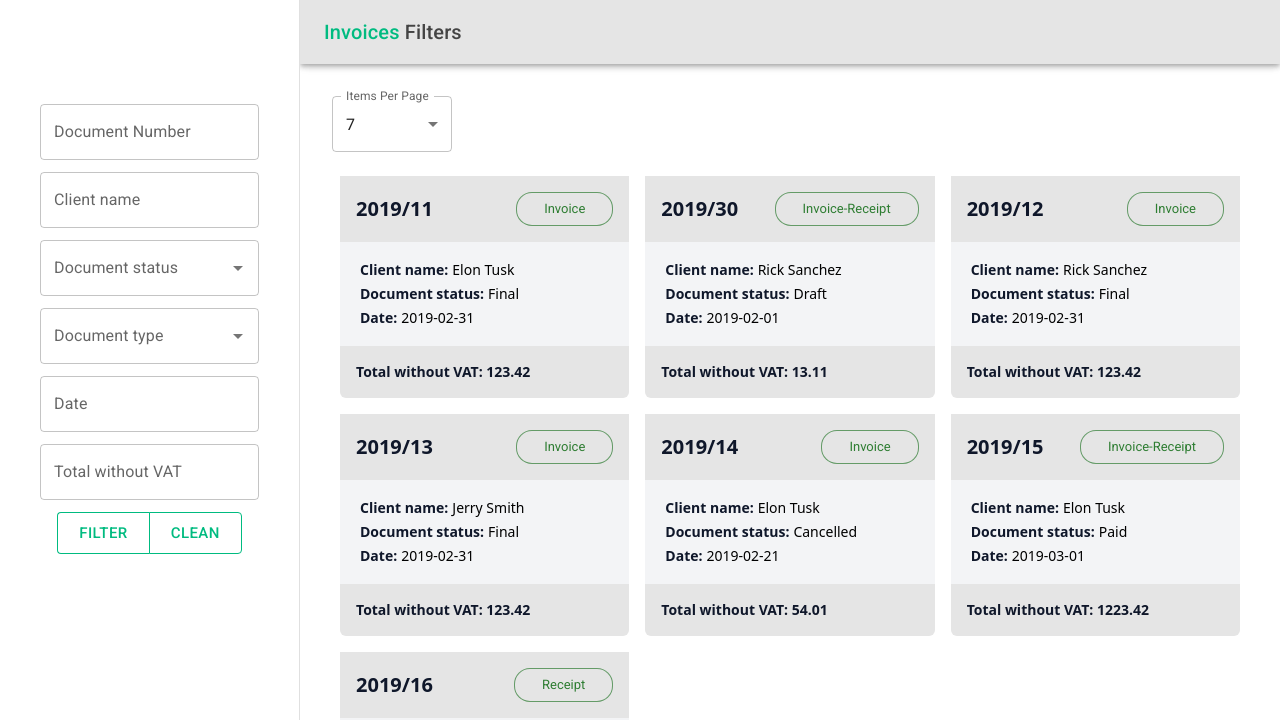
Test: 3 - Test the card filter › should be possible to filter by document name
Type "Elon tusk" into the field labelled "Client name" at (150, 200), box [40, 172, 259, 228]
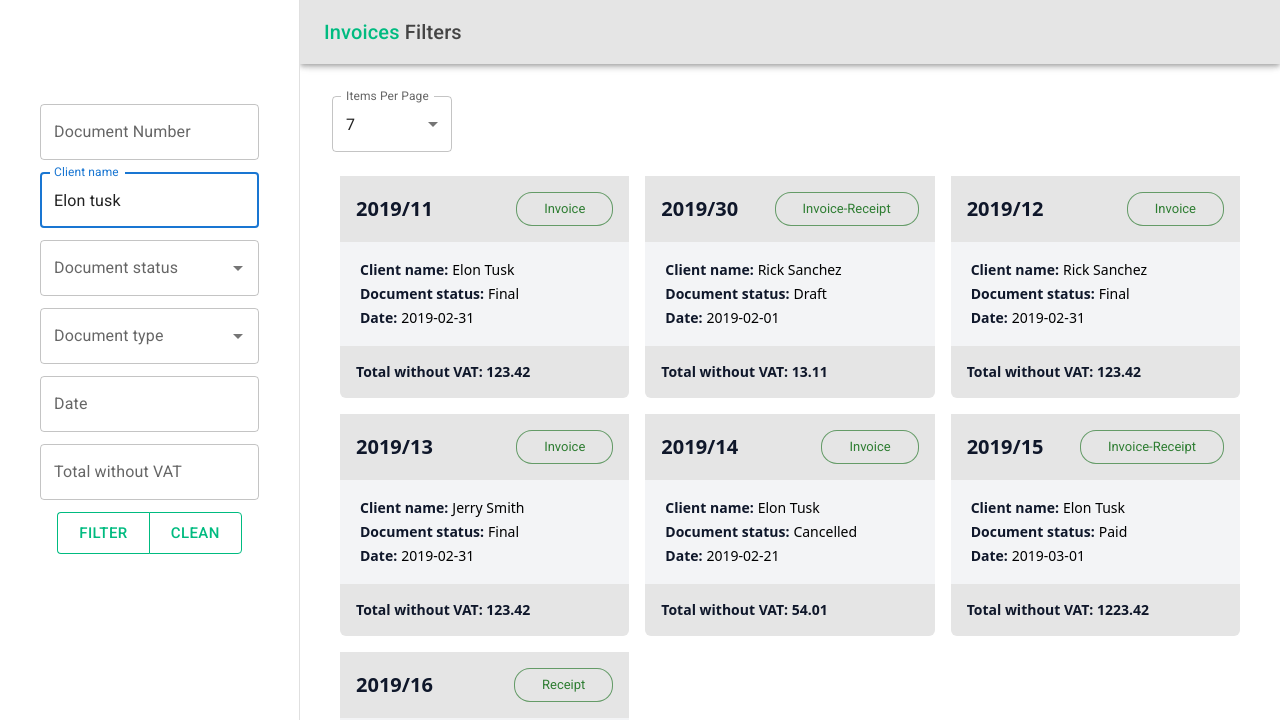
Click the button "Filter" at (103, 533), box [57, 512, 150, 554]
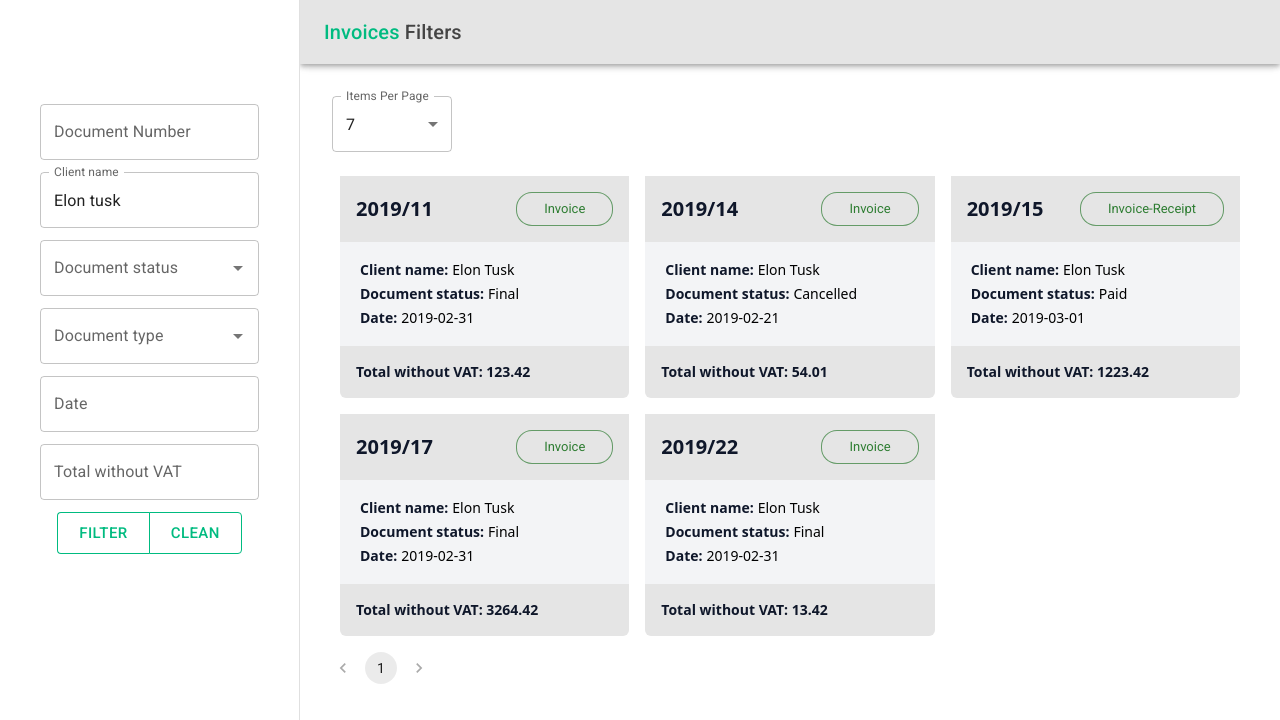
Now the number of list items "Client name:Elon Tusk" is 5, box [360, 260, 514, 279]; [665, 260, 820, 279]; [971, 260, 1125, 279]; [360, 498, 514, 517]; [665, 498, 820, 517]
